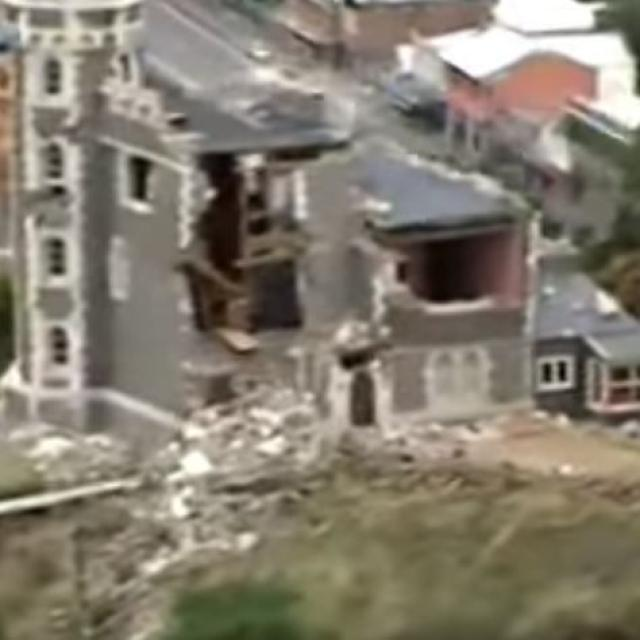collapsed_building: (34, 9, 529, 469)
